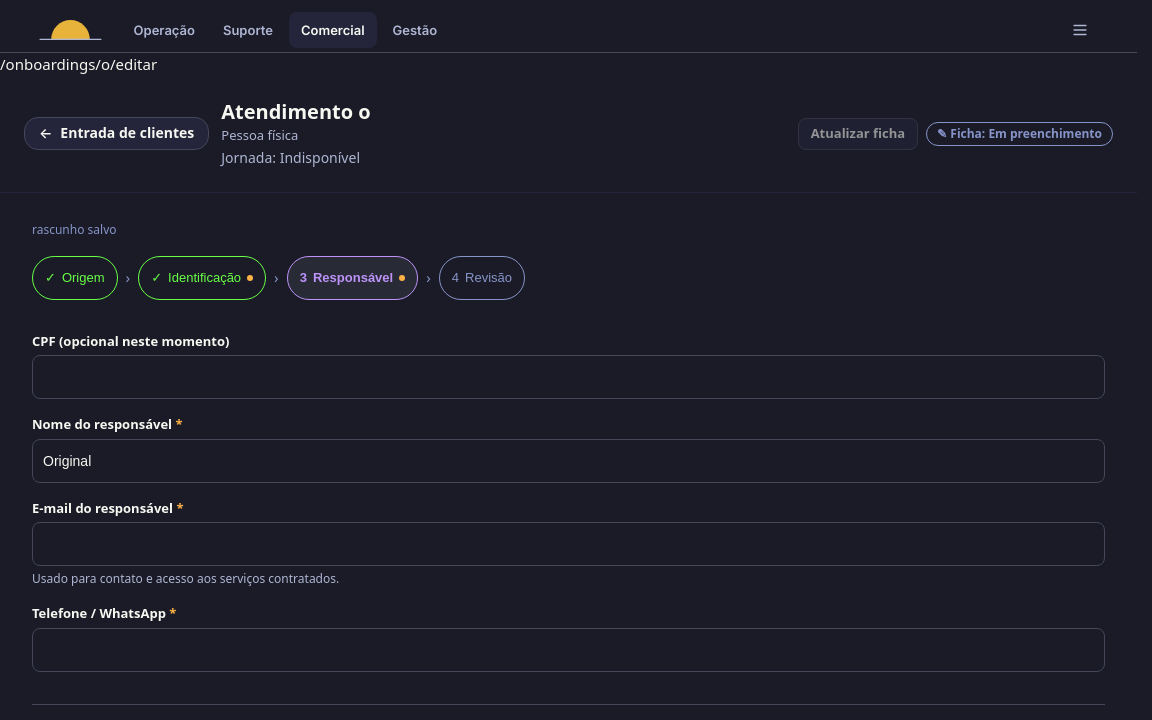
Test: Descartar no menu/detalhe true não salva antes da escolha nem depois de 800ms
This screenshot has width=1152, height=720.
Replace the text in the field showing "Original" with "Editado" at (568, 460), box x1=32 y1=438 x2=1105 y2=482
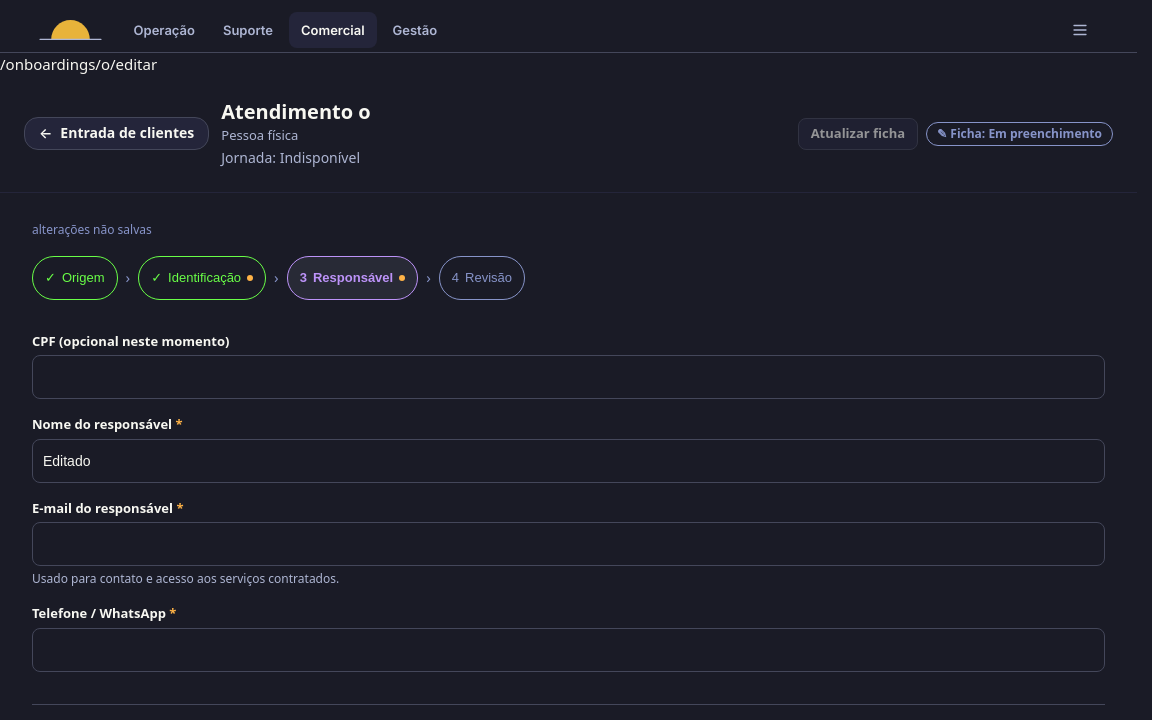
Click the button "← Entrada de clientes" at (117, 134), box x1=24 y1=117 x2=209 y2=150
Wait 1600 ms
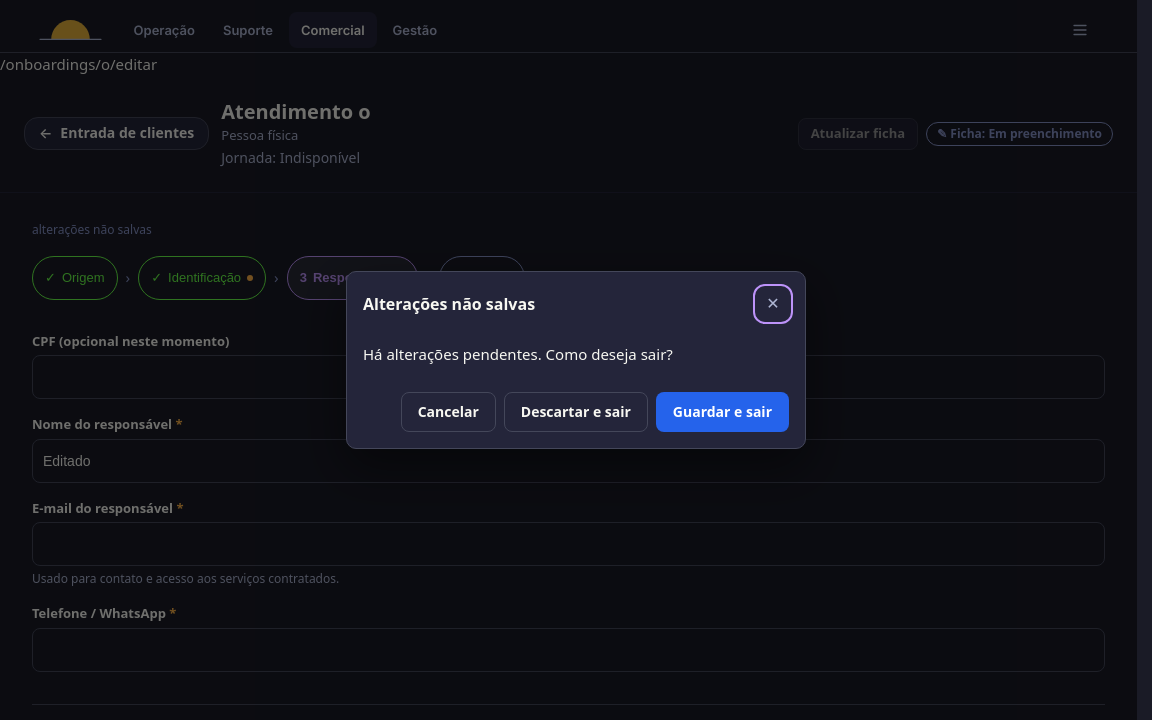
Expected: the dialog "Alterações não salvas" is shown
Click the button "Descartar e sair" at (576, 412), box x1=504 y1=392 x2=648 y2=432
Wait 1600 ms
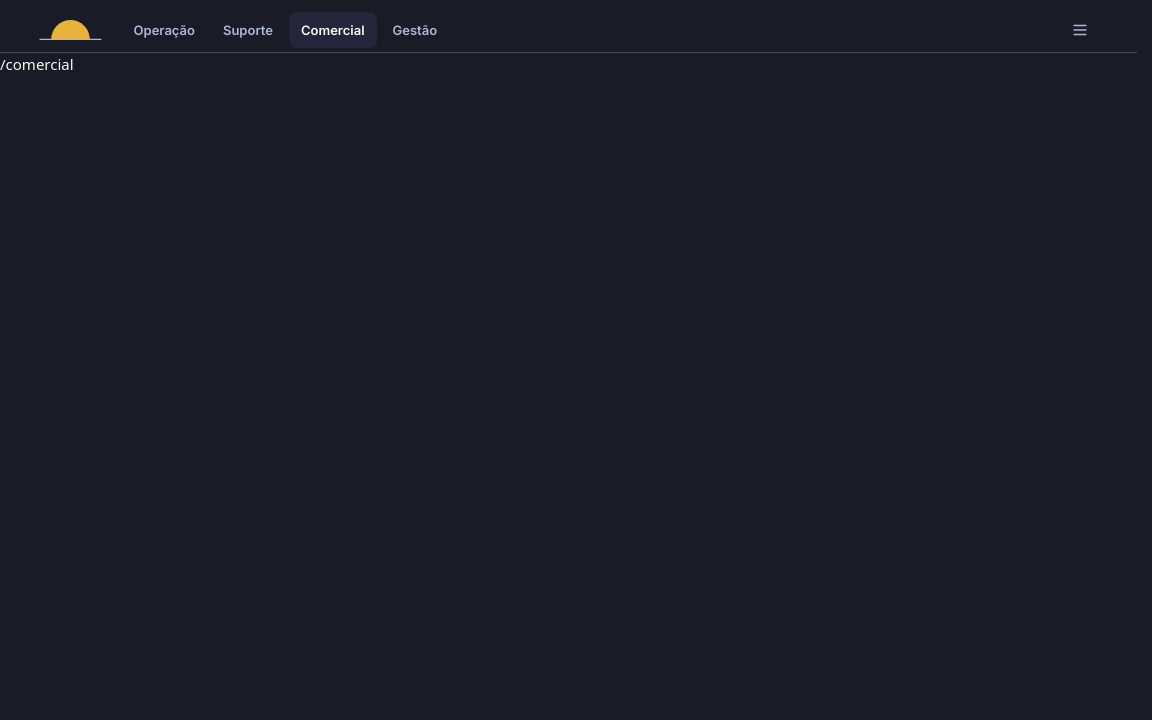
Expected: the text with test id "rota" reads "/comercial", x1=0 y1=54 x2=74 y2=74
